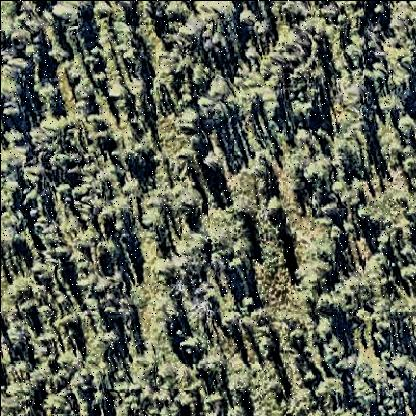tree-top: (200, 210, 252, 257), (293, 257, 332, 295), (126, 134, 160, 170), (178, 183, 213, 217), (313, 375, 349, 407), (194, 95, 227, 126), (2, 67, 26, 109), (177, 330, 210, 360), (319, 334, 343, 368), (255, 334, 283, 362), (6, 322, 32, 352), (330, 135, 356, 165), (2, 143, 26, 175), (140, 203, 167, 231), (200, 150, 228, 177), (283, 95, 313, 120), (9, 272, 35, 300), (109, 215, 137, 241), (49, 1, 82, 23), (313, 309, 335, 341), (36, 81, 62, 108), (176, 107, 204, 132), (377, 93, 404, 117), (72, 101, 102, 122), (261, 201, 287, 225), (207, 76, 232, 99), (354, 205, 380, 227), (53, 315, 81, 335), (146, 256, 172, 277), (44, 45, 68, 67), (3, 127, 26, 149), (219, 312, 242, 334), (90, 389, 110, 411), (398, 115, 416, 139), (236, 8, 257, 28), (98, 303, 120, 322), (354, 308, 374, 328), (291, 128, 311, 148), (298, 368, 319, 387), (1, 227, 19, 249), (238, 290, 256, 312), (91, 71, 109, 88), (401, 265, 416, 285), (369, 3, 387, 19), (54, 185, 72, 201)
